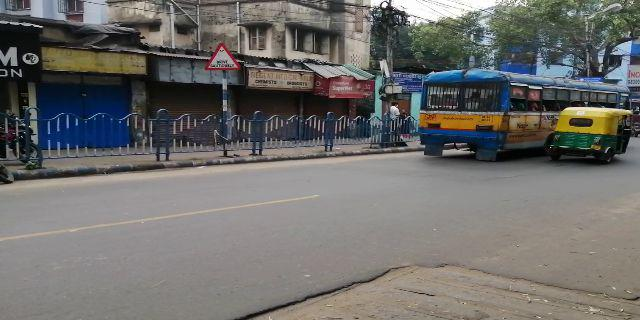Autorickshaw: (557, 108, 634, 155)
Bus: (416, 75, 634, 157)
